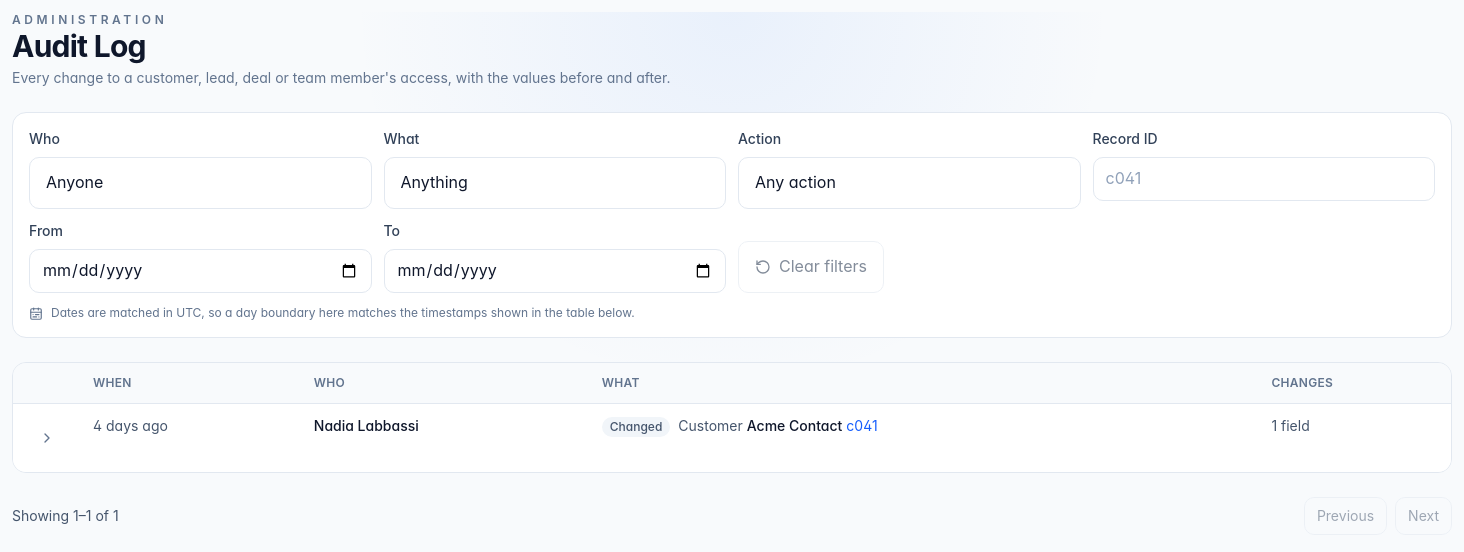
Test: AuditLogPage › collapses the change detail until it is asked for
Expected: the text "new@test.local" is not shown
Click the button named "Show changes" at (47, 438), box [25,416,69,460]
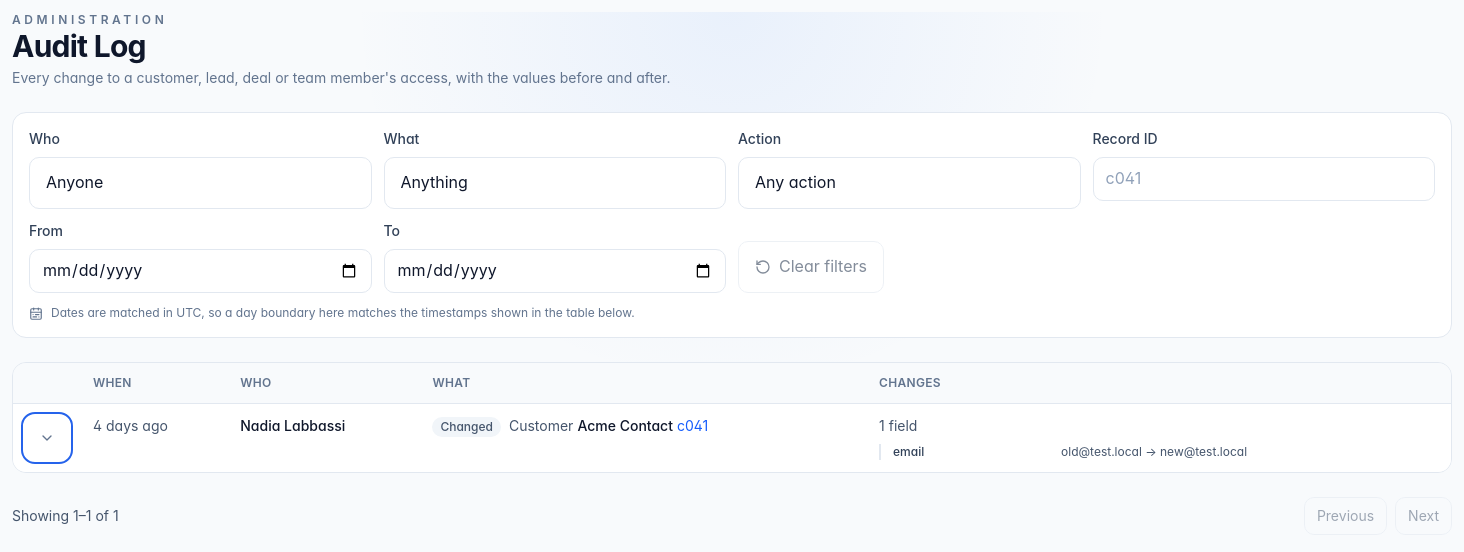
Expected: the text "old@test.local → new@test.local" is shown, [1061,444,1247,460]
